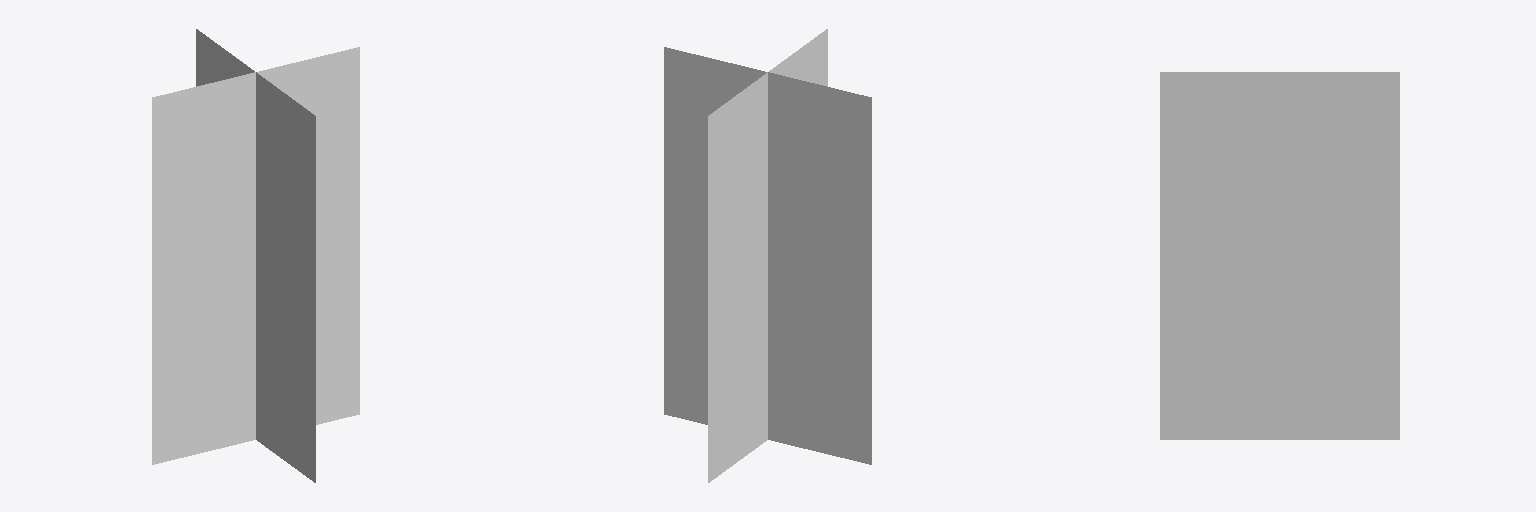
File: Bamboo_Fan_0.obj
3 renders of one model, left to right at view 1: azimuth 30°, elevation 25°; view 2: azimuth 150°, elevation 25°; view 3: azimuth 270°, elevation 25°, orthographic.
Visible parts, largest first — view 1: CreateFan; view 2: CreateFan; view 3: CreateFan.
Boxes of the visible parts, x1,y1,x2,y2 form: CreateFan: [152, 29, 359, 482]; CreateFan: [664, 29, 871, 482]; CreateFan: [1160, 72, 1399, 439].
Bounding box in the file's own units: 4.13 × 7 × 4.13.